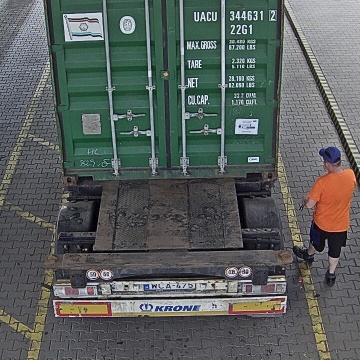serial_id: (194, 10, 276, 21)
